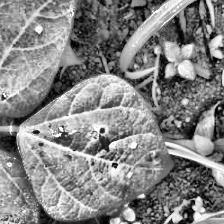Bean Rust: (25, 72, 168, 217), (0, 0, 86, 106), (0, 137, 42, 223)
